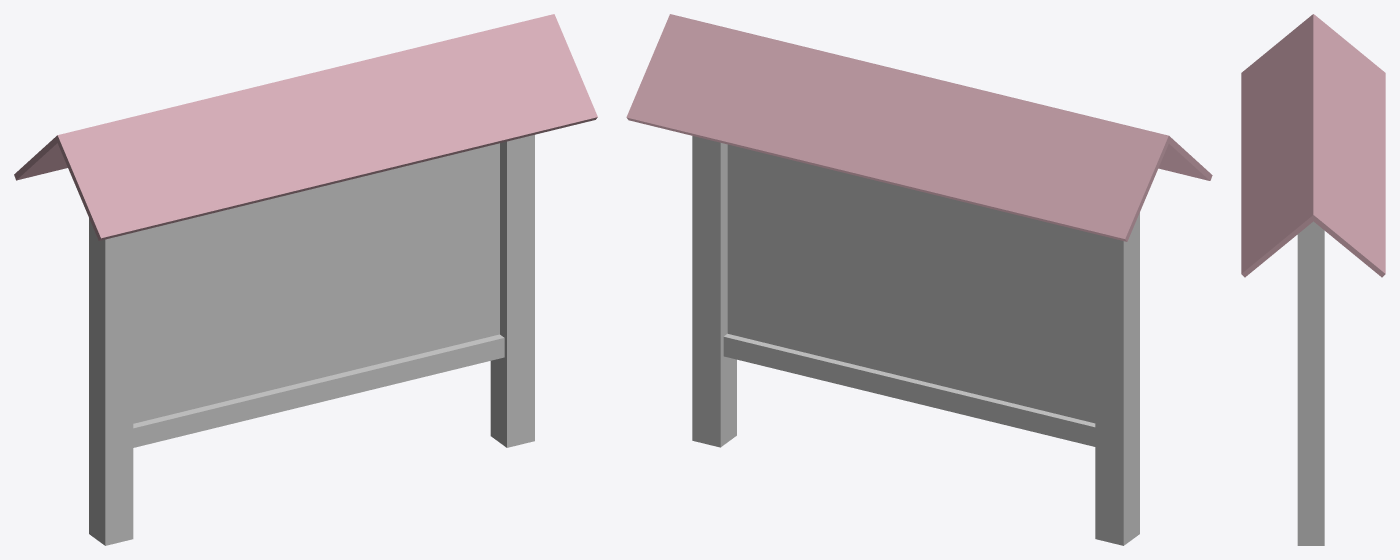
File: informationBoard.dae
3 views of the same model, side by side, from view 1: azimuth 30°, elevation 25°; view 2: azimuth 150°, elevation 25°; view 3: azimuth 270°, elevation 25° (orthographic). The views are drawn at different scales.
Parts seen in each view (by area): view 1: Cube_002, Cube_001, poteau, poteau_001, poteau_003, Cube; view 2: Cube_002, Cube, poteau, poteau_001, poteau_003, Cube_001; view 3: Cube_001, Cube, poteau_001.
Part boxes in pixels (x1,y1,x2,y2): Cube_002: (133, 143, 499, 423); Cube_001: (55, 14, 597, 240); poteau: (89, 218, 133, 545); poteau_001: (490, 135, 534, 447); poteau_003: (133, 334, 504, 447); Cube: (14, 14, 553, 180); Cube_002: (727, 144, 1095, 423); Cube: (626, 14, 1170, 241); poteau: (1095, 212, 1139, 545); poteau_001: (692, 136, 736, 447); poteau_003: (723, 333, 1095, 446); Cube_001: (670, 14, 1212, 180); Cube_001: (1241, 14, 1316, 277); Cube: (1310, 14, 1385, 277); poteau_001: (1297, 221, 1324, 545).
Bounding box in the file's own units: 5.3 × 1.61 × 4.21.
